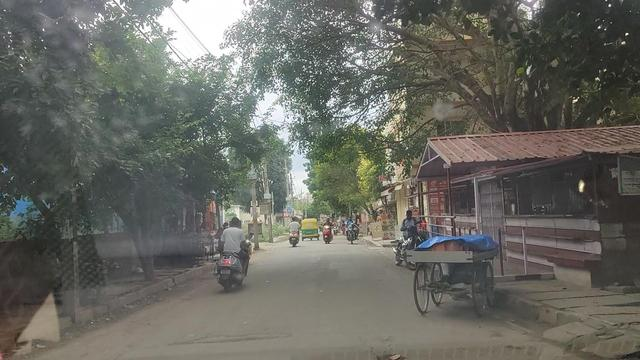LMV: (220, 218, 248, 295), (287, 218, 302, 248)
RoadDamages: (189, 324, 280, 345)
